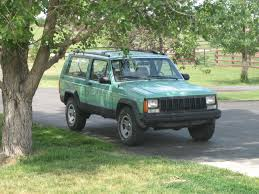Vehicle: (57, 50, 223, 145)
